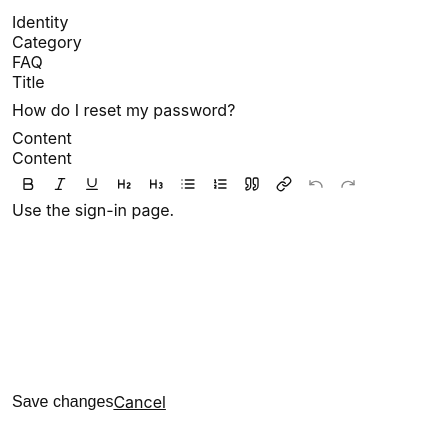
Test: HelpCenterForm › shows the backend's error message on a failed submit
Click the button "Save changes".
click(63, 402)  # box [12, 393, 113, 411]
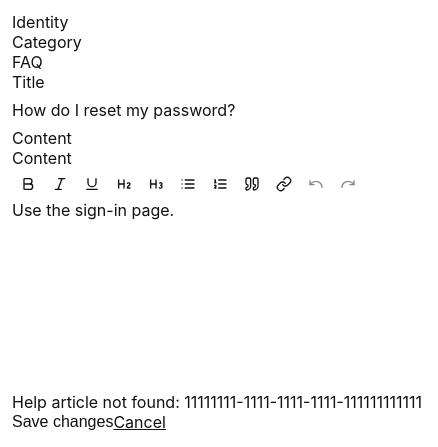
Result: the message shows "not found" at [12, 392, 422, 412]
